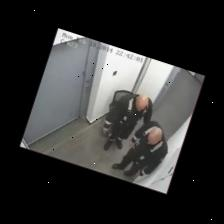person: (112, 121, 168, 176), (103, 95, 153, 150)
